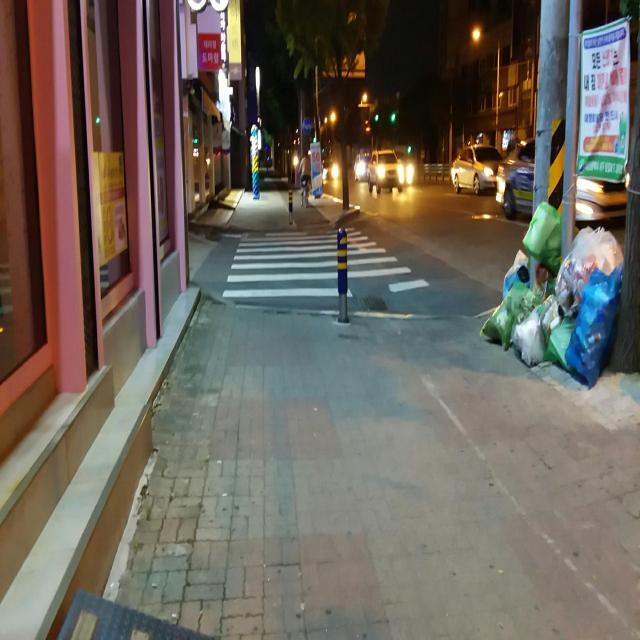횡단보도: (222, 227, 430, 300)
